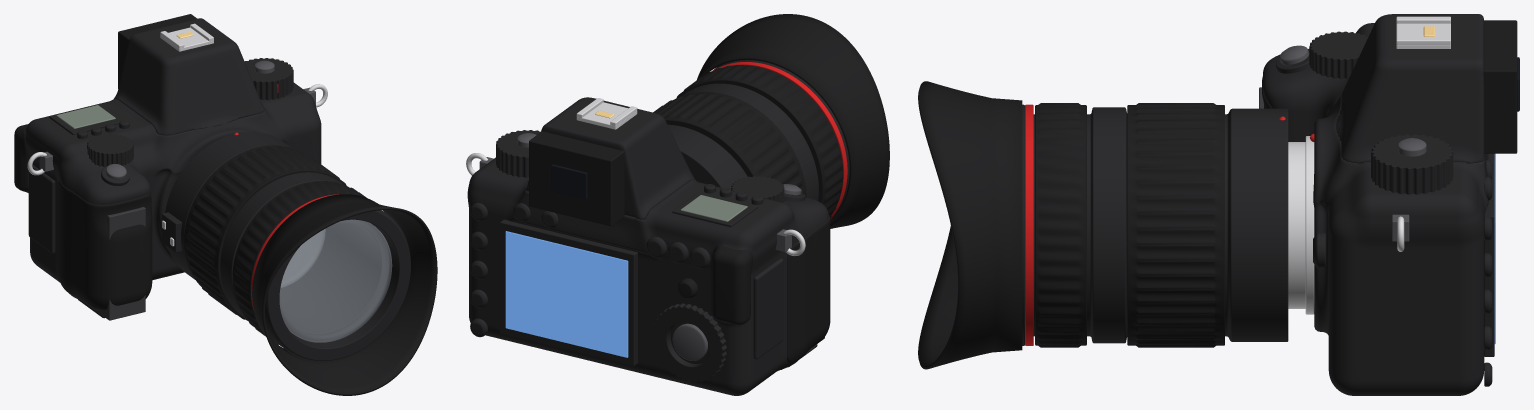
File: camara.glb
3 views of the same model, side by side, from view 1: azimuth 30°, elevation 25°; view 2: azimuth 150°, elevation 25°; view 3: azimuth 270°, elevation 25° (orthographic). The views are drawn at different scales.
Visible parts, largest first — view 1: lente_cuerpo, cuerpo, parasol, pentaprisma, vidrio_frontal, empunadura, anillo_zoom, bisel_frontal, anillo_enfoque, tapa_tarjetas, panel_superior, dial_modos (+8 smaller); view 2: cuerpo, pantalla_lcd, parasol, ocular, pentaprisma, anillo_zoom, anillo_enfoque, lente_cuerpo, empunadura, dial_control, botones_traseros, reposapulgar (+8 smaller); view 3: cuerpo, lente_cuerpo, parasol, anillo_zoom, pentaprisma, anillo_enfoque, ocular, dial_modos, lente_bayoneta, anillo_rojo, dial_principal, zapata (+6 smaller).
Part boxes in pixels (x1=…): lente_cuerpo: x1=162, y1=131, x2=389, y2=341; cuerpo: x1=23, y1=82, x2=321, y2=311; parasol: x1=252, y1=194, x2=437, y2=395; pentaprisma: x1=114, y1=18, x2=264, y2=135; vidrio_frontal: x1=280, y1=220, x2=391, y2=342; empunadura: x1=58, y1=181, x2=152, y2=309; anillo_zoom: x1=184, y1=145, x2=346, y2=320; bisel_frontal: x1=265, y1=210, x2=410, y2=361; anillo_enfoque: x1=232, y1=181, x2=366, y2=344; tapa_tarjetas: x1=28, y1=164, x2=55, y2=253; panel_superior: x1=49, y1=103, x2=129, y2=139; dial_modos: x1=244, y1=58, x2=293, y2=100; cuerpo: x1=467, y1=157, x2=828, y2=395; pantalla_lcd: x1=500, y1=219, x2=637, y2=365; parasol: x1=696, y1=14, x2=889, y2=228; ocular: x1=529, y1=131, x2=624, y2=226; pentaprisma: x1=526, y1=97, x2=694, y2=219; anillo_zoom: x1=653, y1=92, x2=806, y2=197; anillo_enfoque: x1=676, y1=65, x2=843, y2=218; lente_cuerpo: x1=668, y1=83, x2=818, y2=200; empunadura: x1=787, y1=215, x2=830, y2=363; dial_control: x1=652, y1=303, x2=726, y2=382; botones_traseros: x1=470, y1=202, x2=710, y2=337; reposapulgar: x1=712, y1=245, x2=752, y2=324; cuerpo: x1=1263, y1=23, x2=1488, y2=395; lente_cuerpo: x1=1033, y1=107, x2=1288, y2=343; parasol: x1=918, y1=81, x2=1022, y2=369; anillo_zoom: x1=1127, y1=103, x2=1224, y2=347; pentaprisma: x1=1336, y1=14, x2=1484, y2=163; anillo_enfoque: x1=1035, y1=103, x2=1086, y2=347; ocular: x1=1483, y1=20, x2=1519, y2=153; dial_modos: x1=1371, y1=134, x2=1453, y2=194; lente_bayoneta: x1=1288, y1=142, x2=1305, y2=308; anillo_rojo: x1=1025, y1=104, x2=1033, y2=345; dial_principal: x1=1309, y1=31, x2=1368, y2=78; zapata: x1=1396, y1=16, x2=1450, y2=48.
Bounding box in the file's own units: 0.1714 × 0.1256 × 0.2091.
